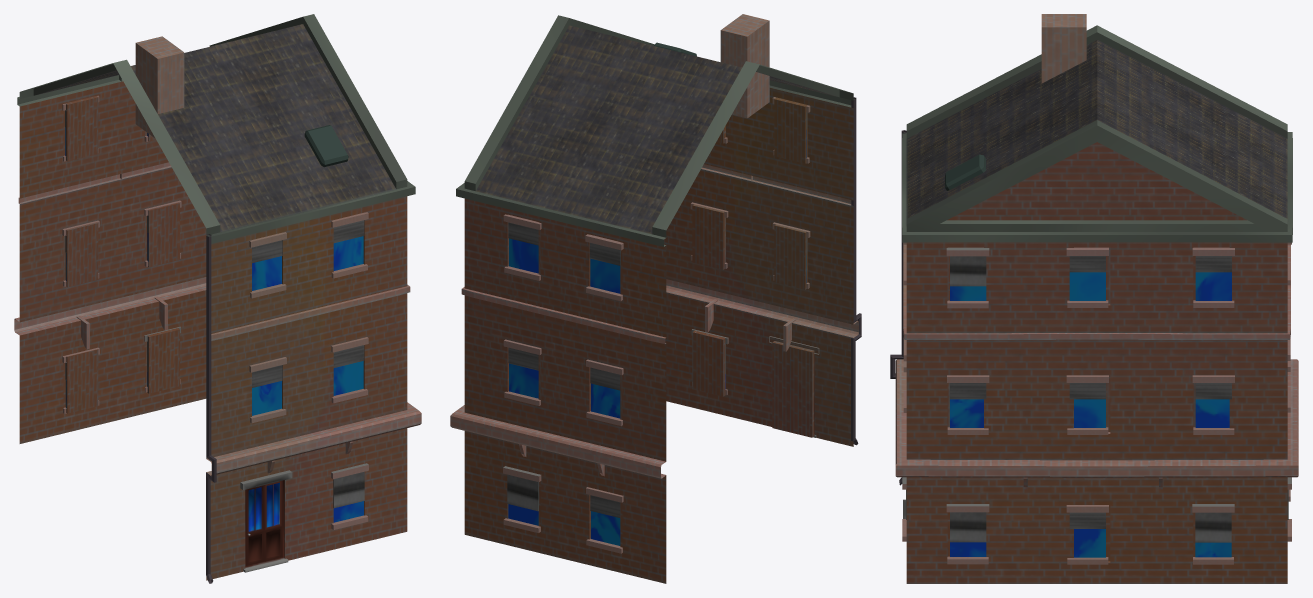
File: end_house.gltf
The picture shows the model from 3 angles, left to right: view 1: azimuth 30°, elevation 25°; view 2: azimuth 150°, elevation 25°; view 3: azimuth 270°, elevation 25°; orthographic projection. The views are drawn at different scales.
Parts seen in each view (by area): view 1: end_2_house.001; view 2: end_2_house.001; view 3: end_2_house.001.
Boxes of the visible parts, <box> form: end_2_house.001: <box>14,14,421,583</box>; end_2_house.001: <box>450,14,861,583</box>; end_2_house.001: <box>890,14,1298,583</box>.
Bounding box in the file's own units: 5.43 × 11.54 × 8.91.
1 material, 1 textured.
